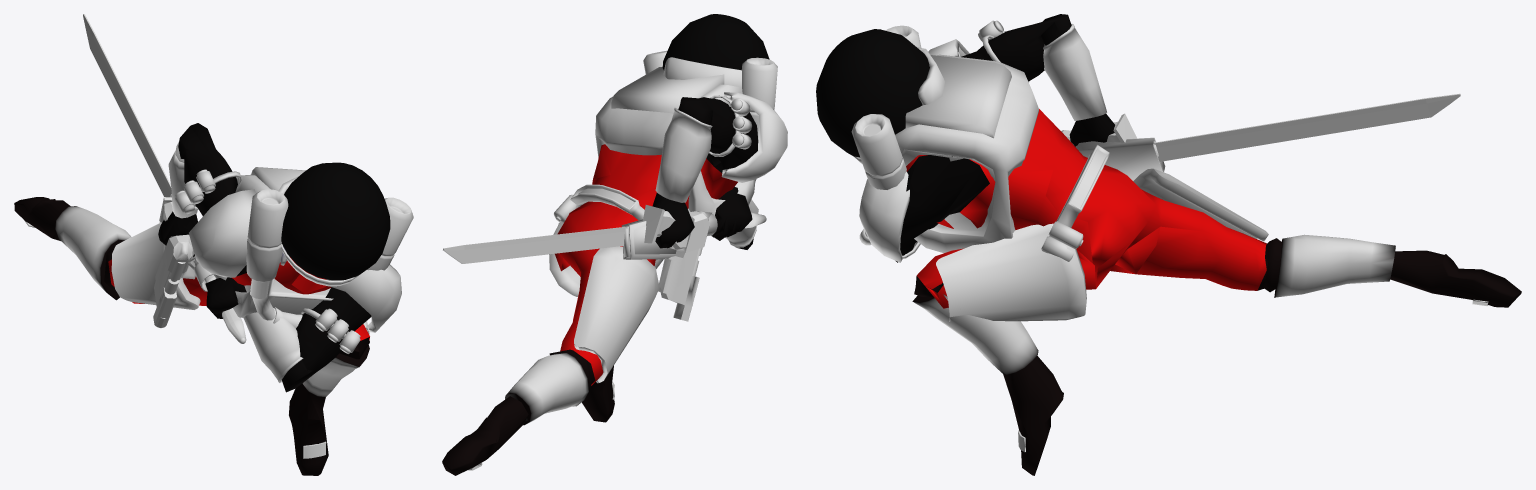
The model's file is NemmandoDashEffect.fbx.
3 views of the same model, side by side, from view 1: azimuth 30°, elevation 25°; view 2: azimuth 150°, elevation 25°; view 3: azimuth 270°, elevation 25° (orthographic). The views are drawn at different scales.
Parts seen in each view (by area): view 1: NemesisCommandoMesh; view 2: NemesisCommandoMesh; view 3: NemesisCommandoMesh.
Boxes of the visible parts, <box> form: NemesisCommandoMesh: <box>14,14,413,475</box>; NemesisCommandoMesh: <box>442,14,787,475</box>; NemesisCommandoMesh: <box>816,14,1521,475</box>.
Size of the model in its own units: 64.48 by 126 by 197.
